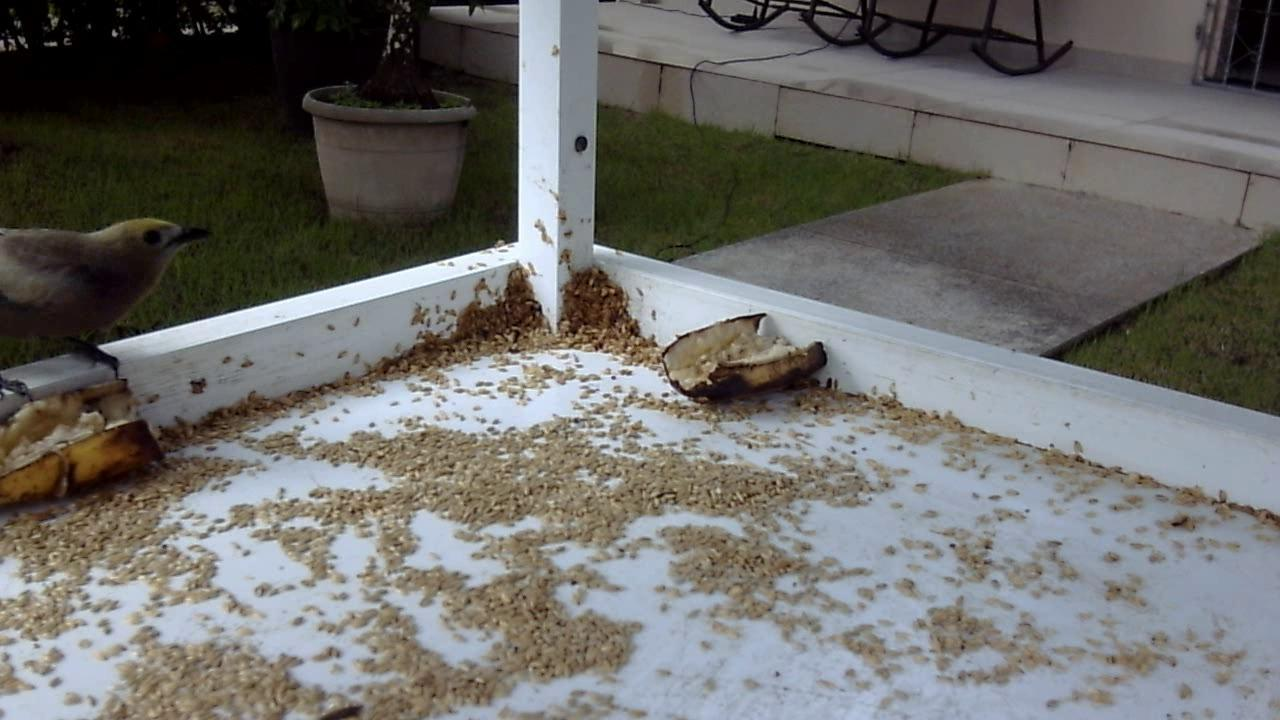sanhaco_do_coqueiro: (4, 211, 212, 395)
